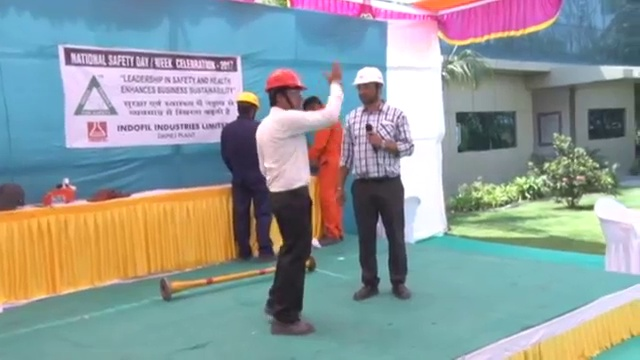helmet: (263, 67, 311, 92), (349, 64, 387, 87), (235, 88, 261, 109)
helmet_off: (301, 94, 325, 115)
helmet_on: (262, 66, 310, 113), (349, 63, 387, 112), (234, 87, 262, 123)
person: (255, 68, 343, 336), (337, 64, 413, 301), (222, 88, 276, 261), (301, 92, 345, 246)
